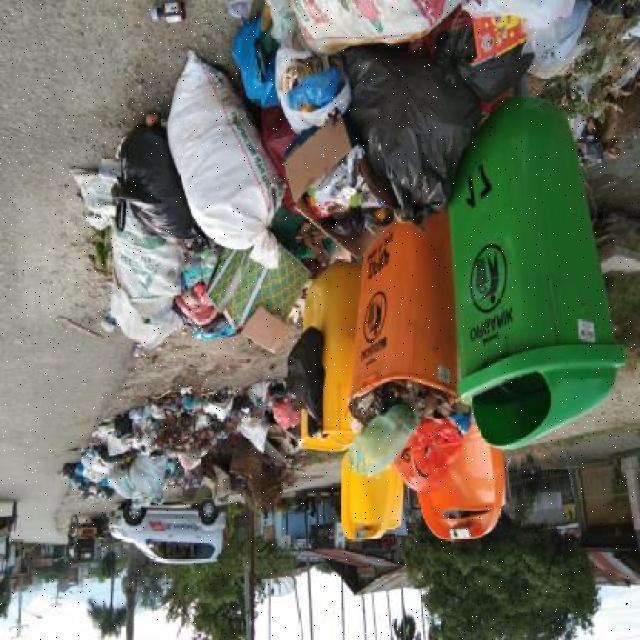garbage container: (443, 92, 631, 460), (351, 211, 449, 434), (293, 254, 366, 459)
